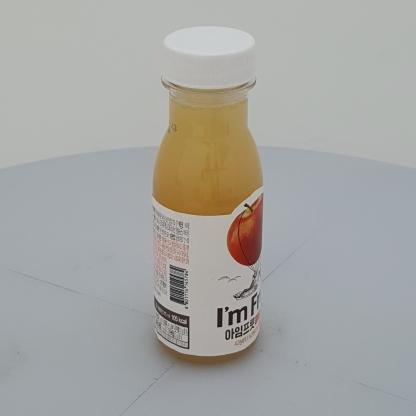--------------215ML: (152, 26, 264, 364)
